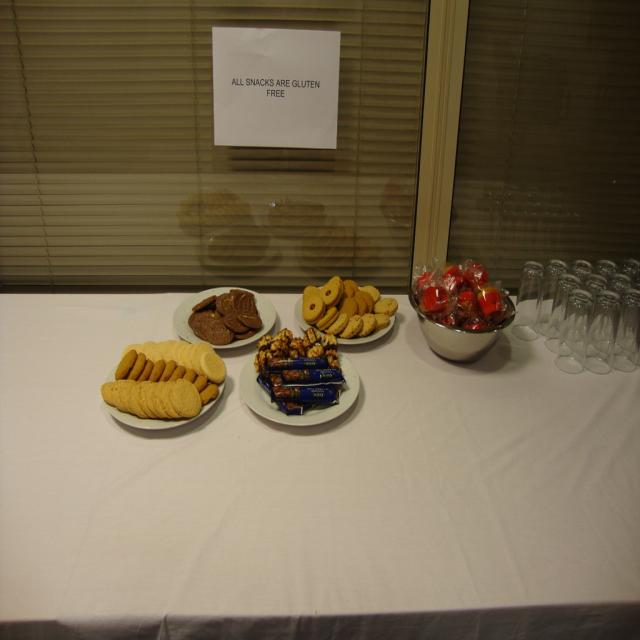non-organic waste: (234, 327, 368, 444)
